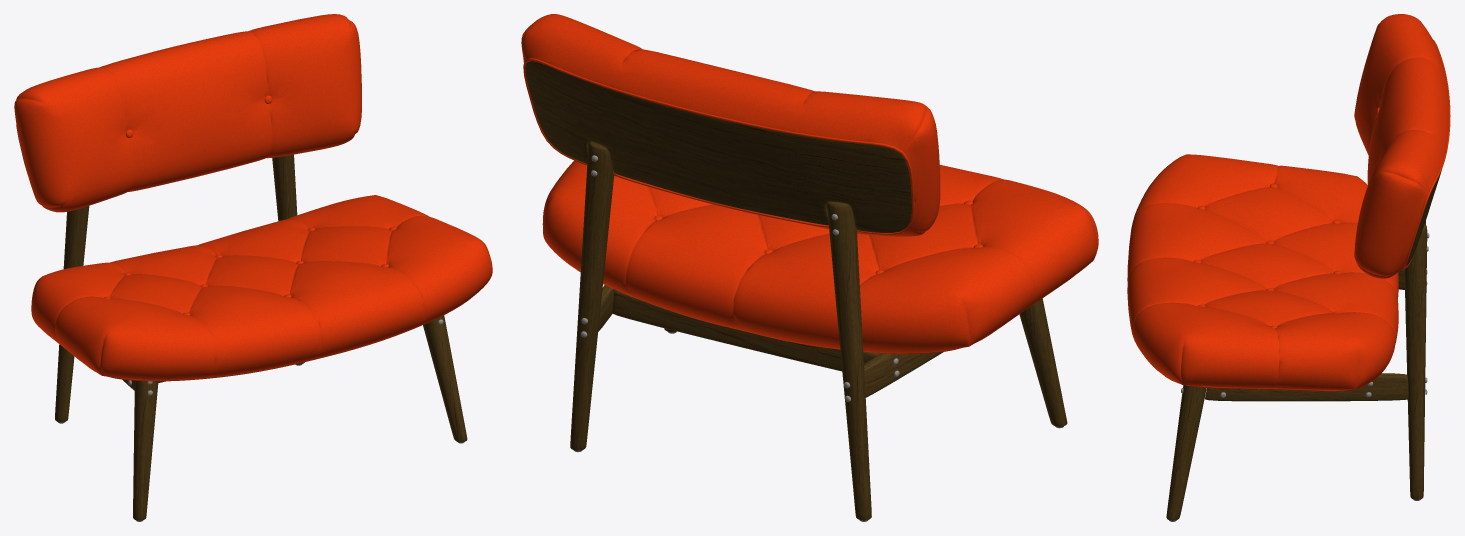
The model's file is chair.glb.
3 views of the same model, side by side, from view 1: azimuth 30°, elevation 25°; view 2: azimuth 150°, elevation 25°; view 3: azimuth 270°, elevation 25° (orthographic). The views are drawn at different scales.
Parts seen in each view (by area): view 1: SheenChair_fabric, SheenChair_wood; view 2: SheenChair_fabric, SheenChair_wood; view 3: SheenChair_fabric, SheenChair_wood.
Part boxes in pixels (<box>): SheenChair_fabric: <box>14,14,492,381</box>; SheenChair_wood: <box>55,154,467,520</box>; SheenChair_fabric: <box>521,14,1098,354</box>; SheenChair_wood: <box>525,61,1067,520</box>; SheenChair_fabric: <box>1127,14,1450,391</box>; SheenChair_wood: <box>1166,170,1441,520</box>.
Size of the model in its own units: 0.8266 by 0.6862 by 0.5702.
Materials: 4 (3 with a texture image).
